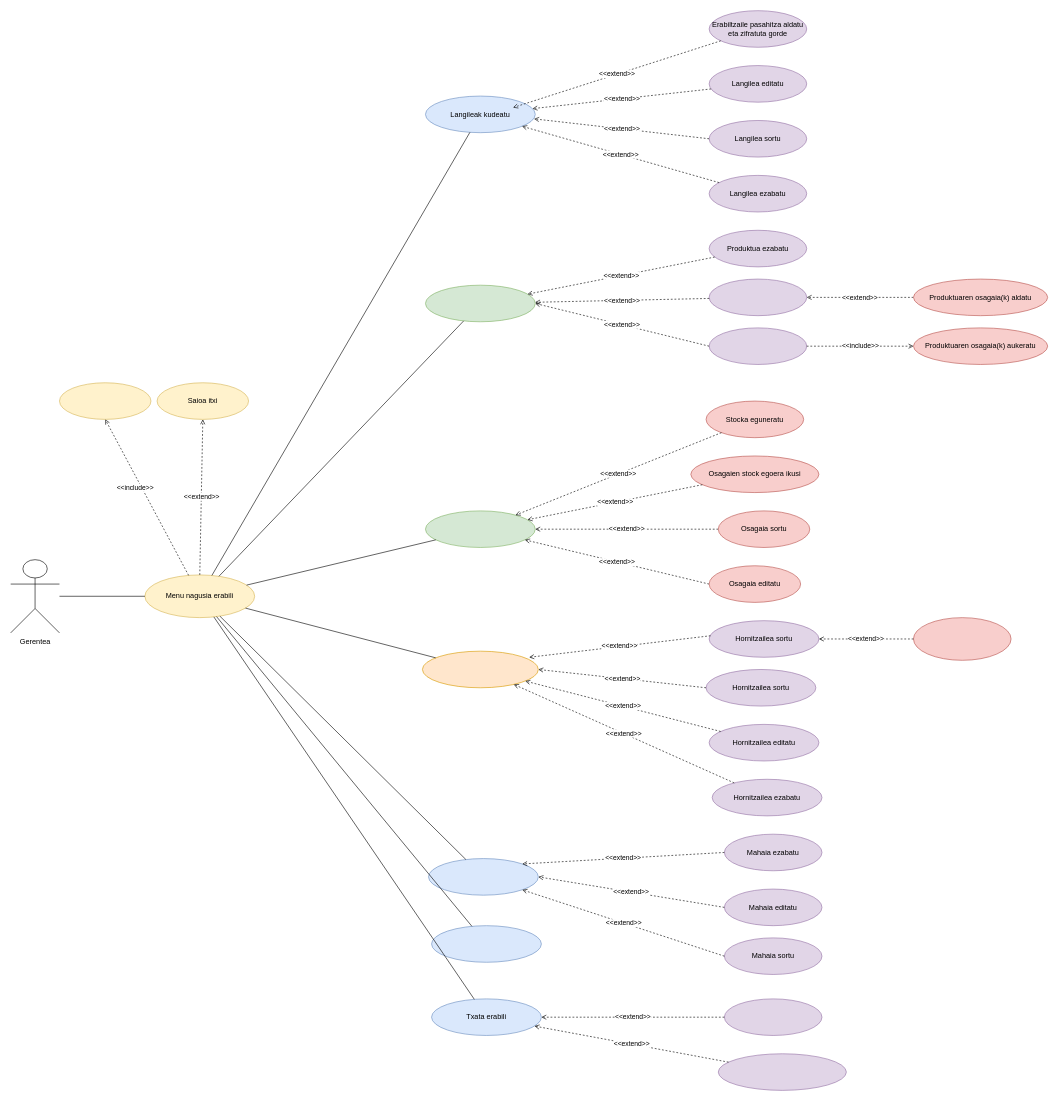
Some shapes in this 1058 by 1101 pixel diagram are drawn without their labels. The centre of each missing label's shape, as x and y in pixels:
"Eguraldia ikusi" belongs at pixel 486 943.
"Fitxategia bidali, ikusi edo gorde" belongs at pixel 782 1071.
"Hornitzaileak kudeatu" belongs at pixel 480 669.
"Hornitzen dituen osagaiak ikusi" belongs at pixel 962 638.
"Mahaiak kudeatu" belongs at pixel 483 876.
"Mezua bidali" belongs at pixel 773 1016.
"Osagaiak kudeatu" belongs at pixel 480 528.
"Produktua editatu" belongs at pixel 758 297.
"Produktua sortu" belongs at pixel 758 345.
"Produktuak kudeatu" belongs at pixel 480 303.
"Saioa hasi" belongs at pixel 105 400.
